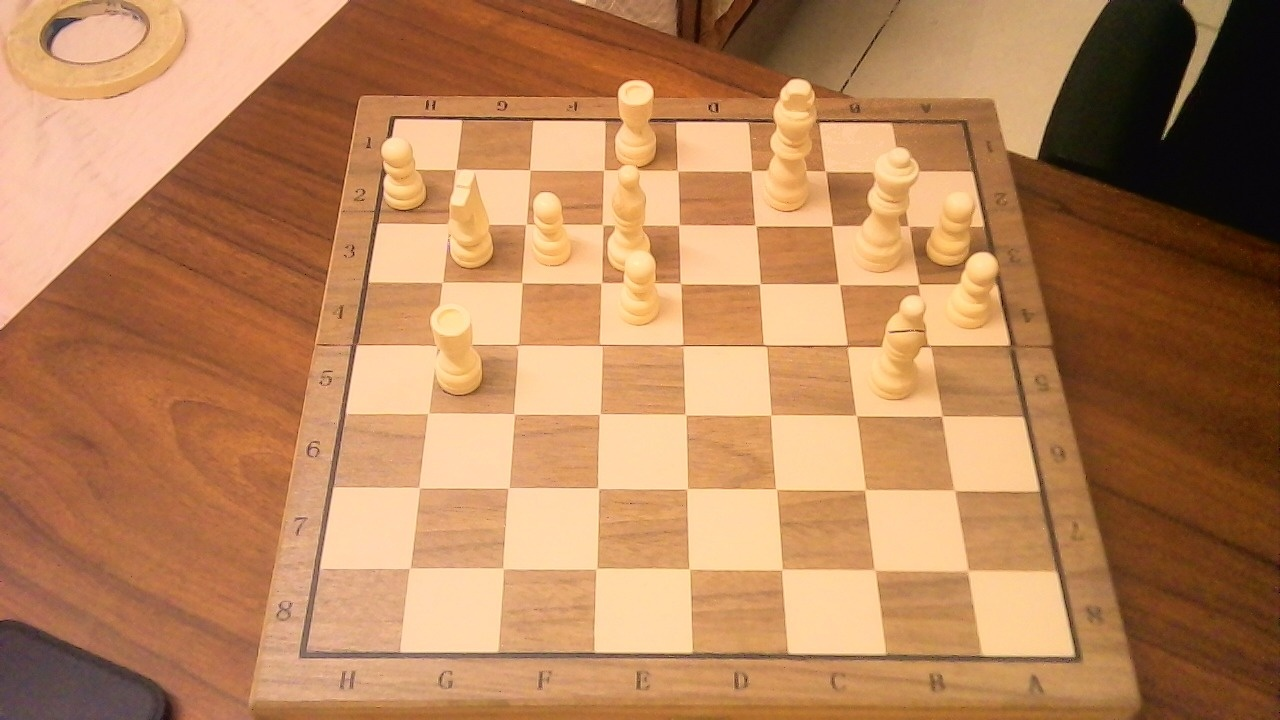B: (862, 283, 938, 405), (604, 154, 662, 277)
K: (758, 66, 826, 215)
N: (443, 163, 504, 272)
P: (940, 242, 1007, 333), (920, 182, 984, 270), (608, 240, 668, 331), (525, 182, 578, 271), (377, 129, 432, 212)
Q: (846, 135, 926, 277)
R: (427, 293, 491, 399), (608, 70, 665, 167)
